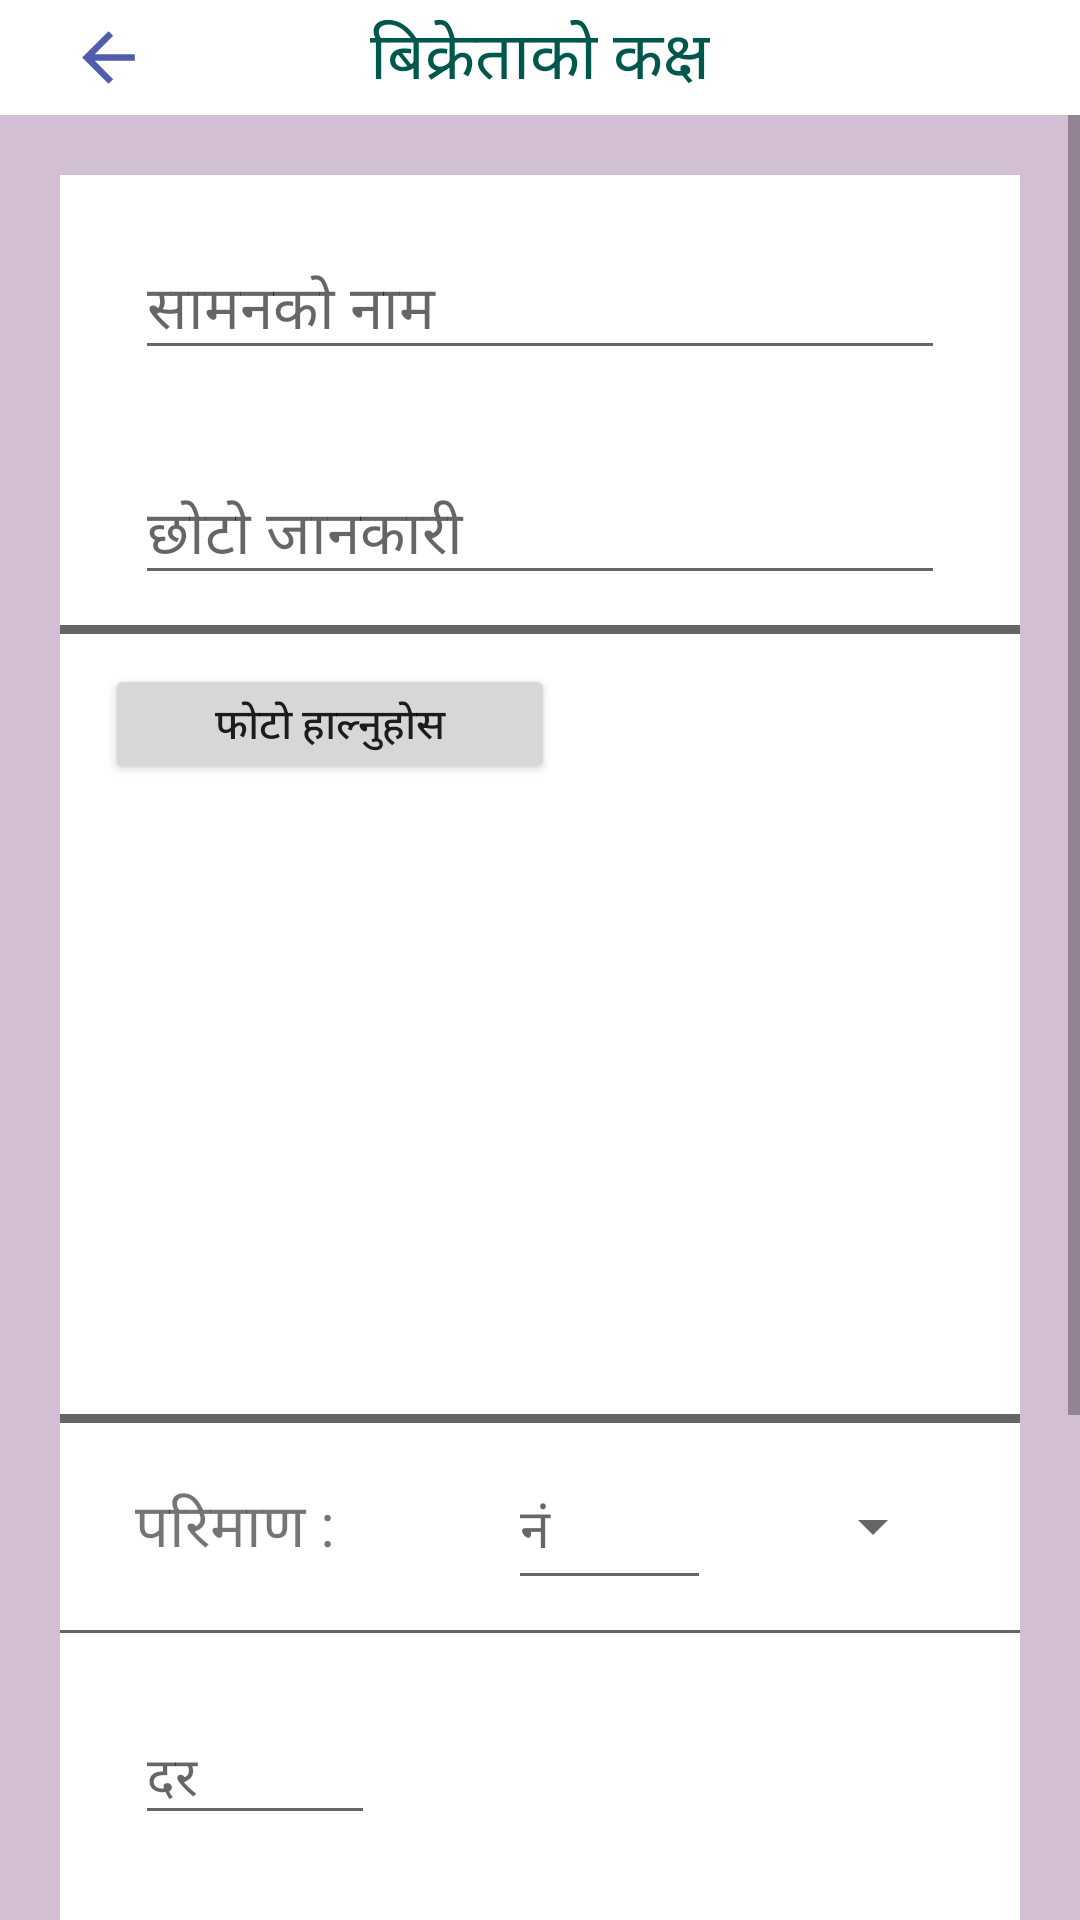

Screen size 1080 x 1920. Icon name, then its box in pixels as bbox=[x1, y1, x2, y2]:
backarrow: bbox=[82, 31, 135, 84]
